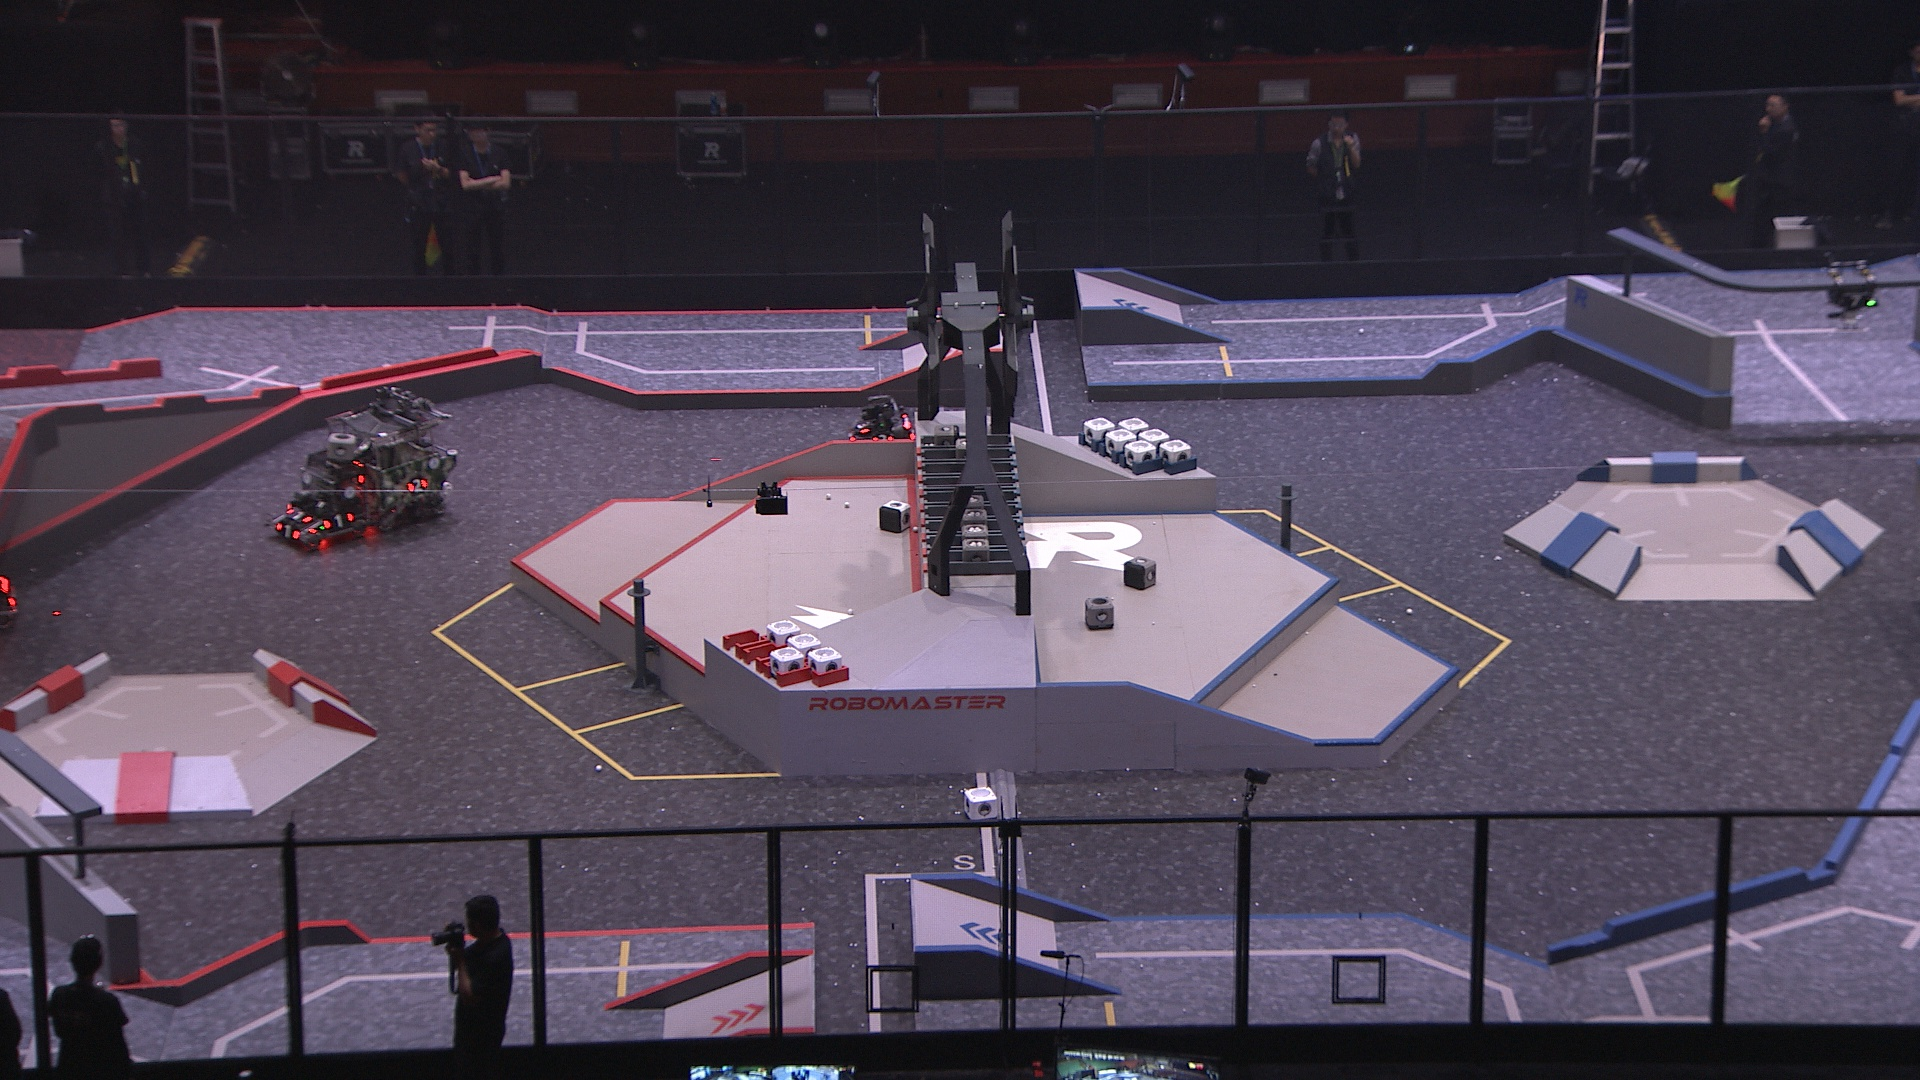armor: (318, 509, 359, 529), (273, 520, 301, 545), (1837, 291, 1873, 310), (285, 504, 314, 524), (405, 476, 430, 496), (347, 467, 367, 488), (855, 417, 872, 436), (872, 433, 894, 442)
car: (323, 386, 458, 538), (268, 443, 384, 553), (849, 394, 913, 454)
watcher: (1820, 248, 1878, 334)
